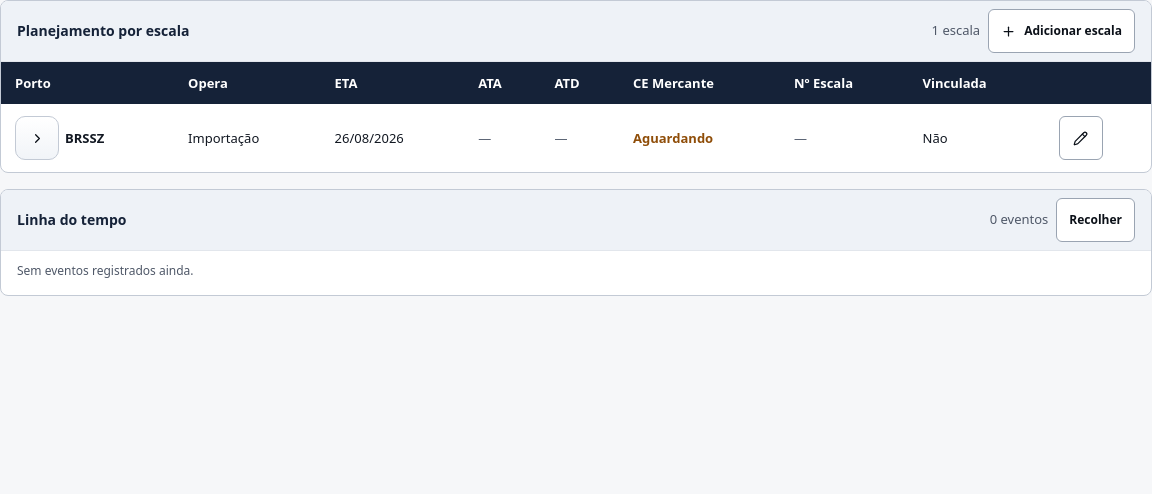
it: recolhe e expande o painel próprio de atracações sem perder os dados da escala
Click the button named "Expandir atracações de BRSSZ" at (37,138), box 15,116 -> 59,160
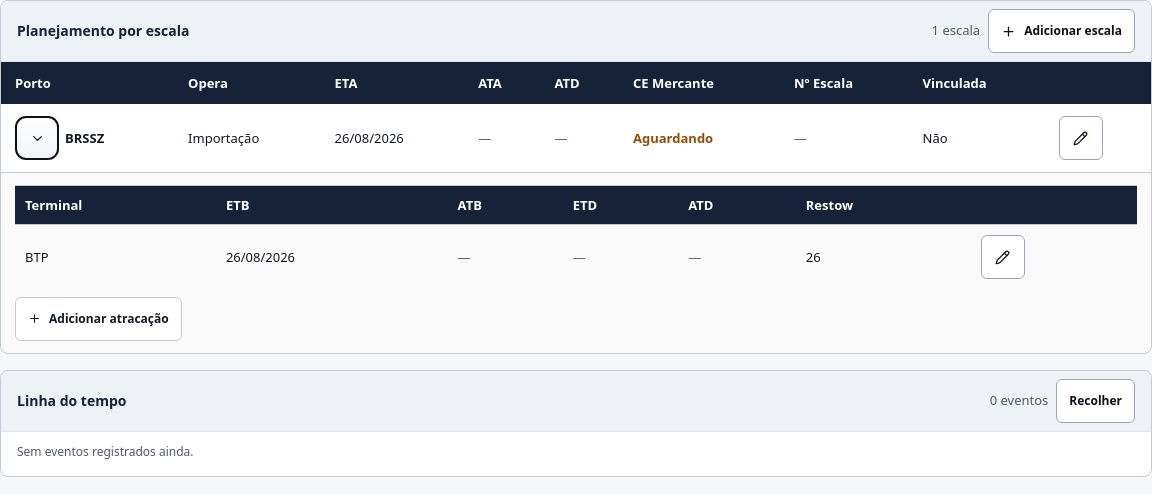
Expected: the table named "Atracações de BRSSZ" is shown, 15,185 -> 1137,289
Click the button with aria-label "Adicionar atracação na escala BRSSZ" at (98,319), box 15,297 -> 182,341
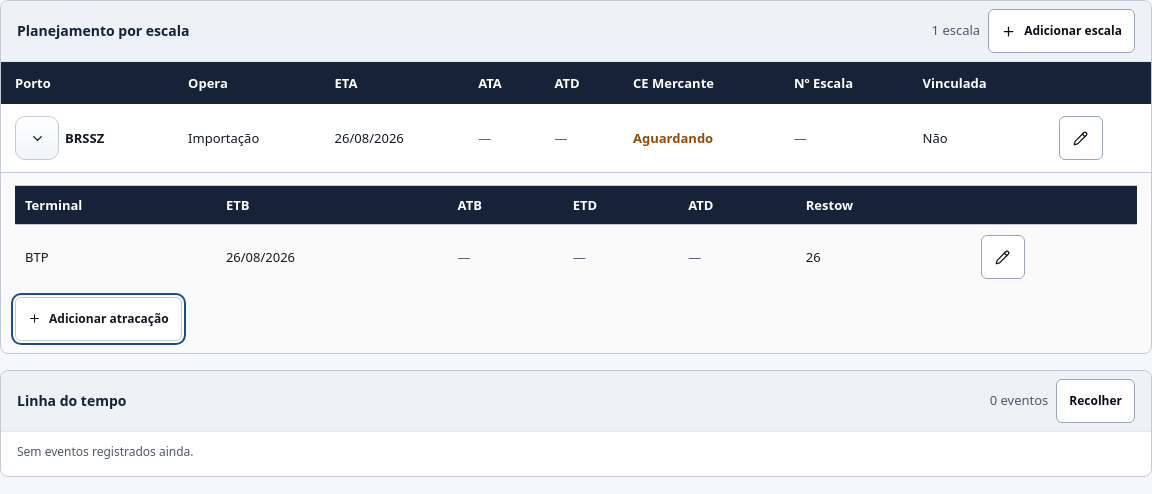
Click the button named "Editar atracação BTP, ETB 26/08/2026, da escala BRSSZ" at (1003,257), box 981,235 -> 1025,279
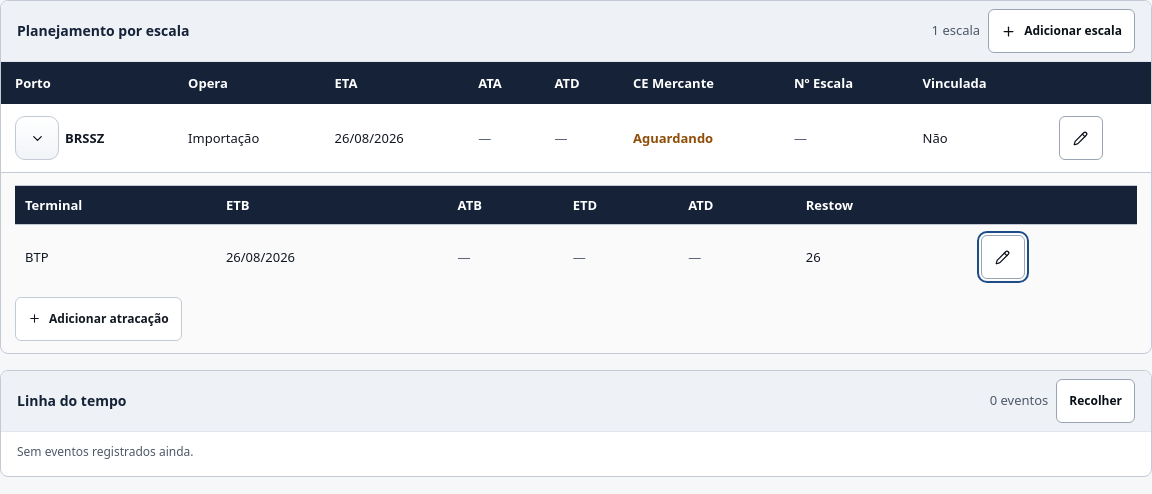
Click the button named "Recolher atracações de BRSSZ" at (37,138), box 15,116 -> 59,160
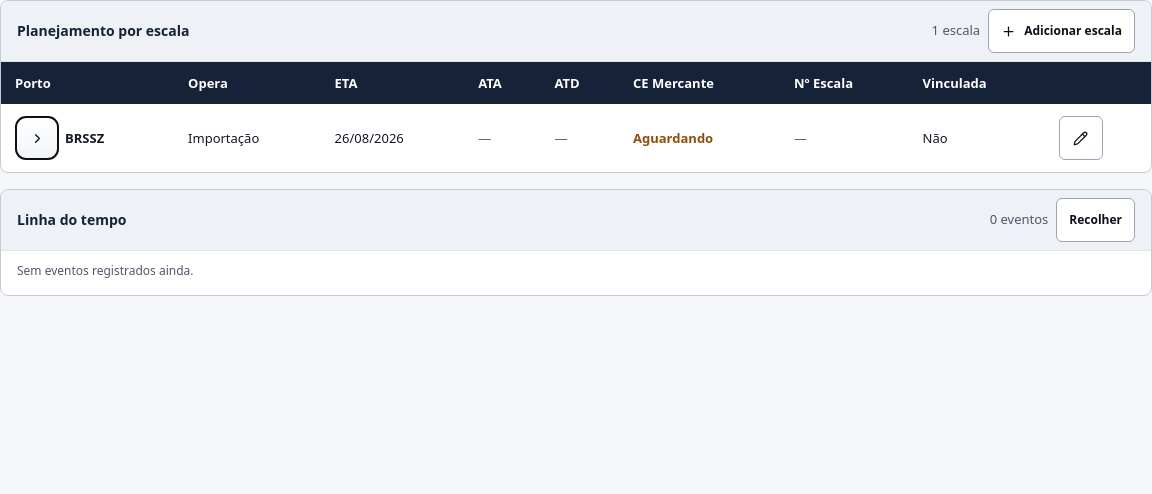
Click the button named "Expandir atracações de BRSSZ" at (37,138), box 15,116 -> 59,160
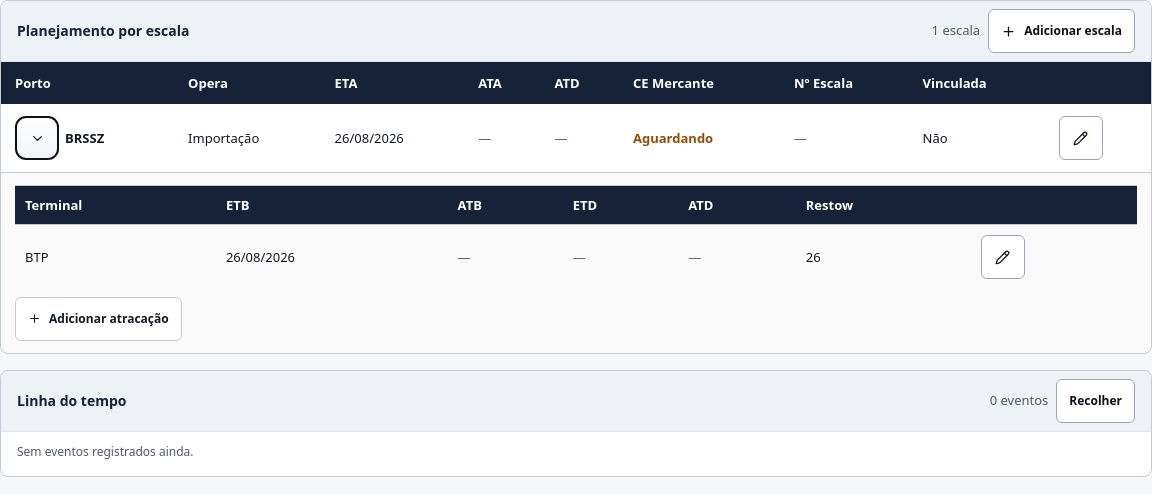
Expected: the table named "Atracações de BRSSZ" is shown, 15,185 -> 1137,289
Expected: the text "BTP" is shown, 15,224 -> 216,289
